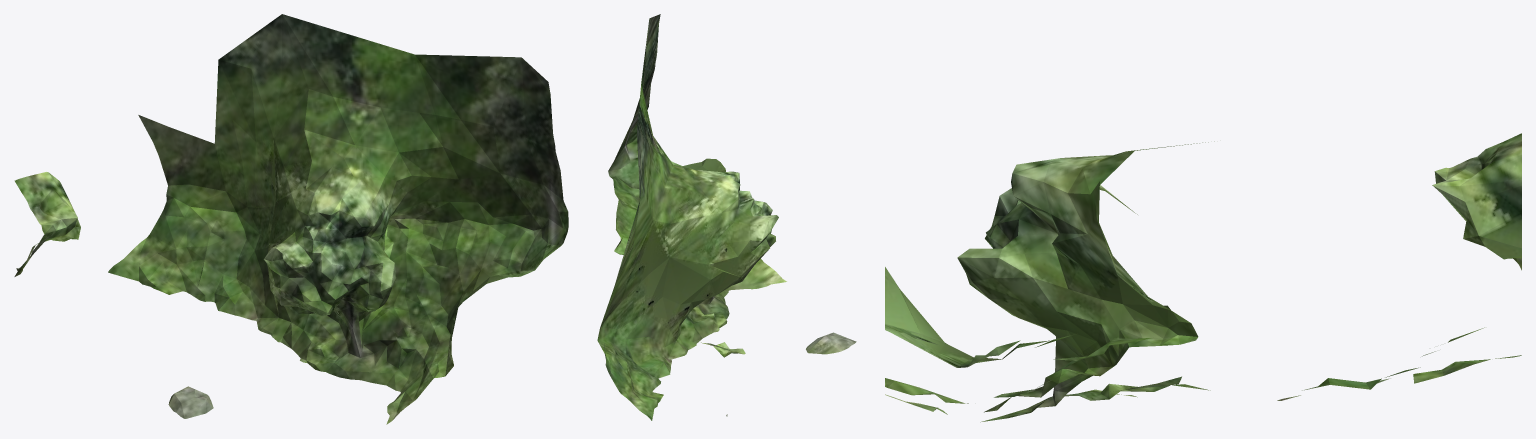
3 views of the same model, side by side, from view 1: azimuth 30°, elevation 25°; view 2: azimuth 150°, elevation 25°; view 3: azimuth 270°, elevation 25° (orthographic). The views are drawn at different scales.
Size of the model in its own units: 22.56 by 20.04 by 26.11.
3 materials, 3 textured.
